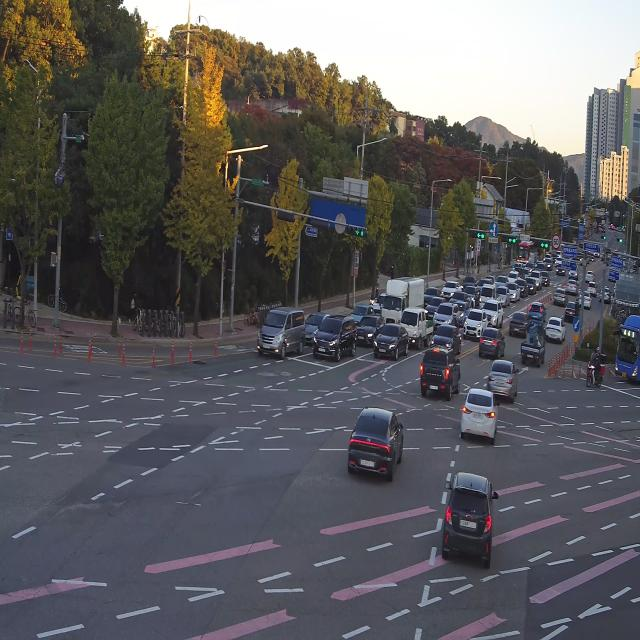Bus: (612, 311, 640, 386)
Car: (439, 461, 501, 568), (338, 400, 406, 486), (455, 374, 504, 450), (418, 336, 466, 403), (256, 303, 310, 361), (312, 307, 358, 367), (481, 358, 526, 408), (374, 311, 411, 363), (350, 310, 386, 352), (475, 325, 504, 360), (540, 311, 567, 347), (508, 303, 532, 343), (463, 303, 486, 342), (559, 297, 581, 326), (528, 300, 547, 324), (551, 282, 567, 307), (586, 278, 599, 303), (566, 279, 579, 297)
Motorcycle: (582, 341, 606, 393)
Truck: (382, 273, 426, 338), (401, 303, 434, 352), (518, 318, 546, 369)
